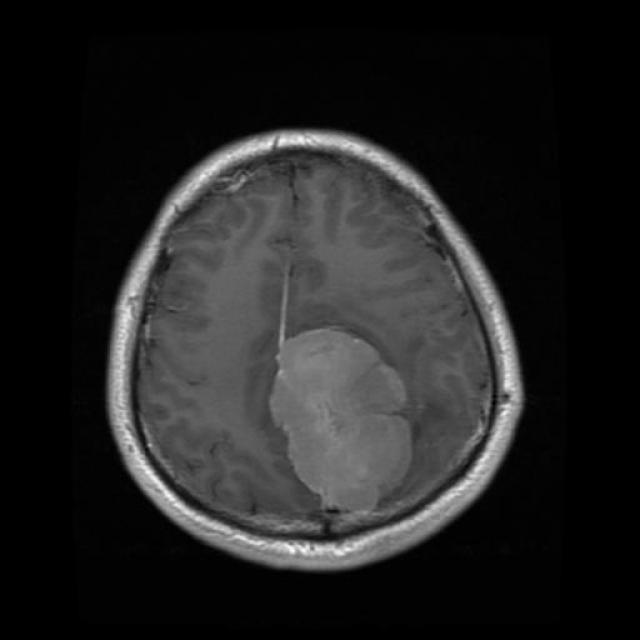Meningioma: (270, 329, 411, 512)
